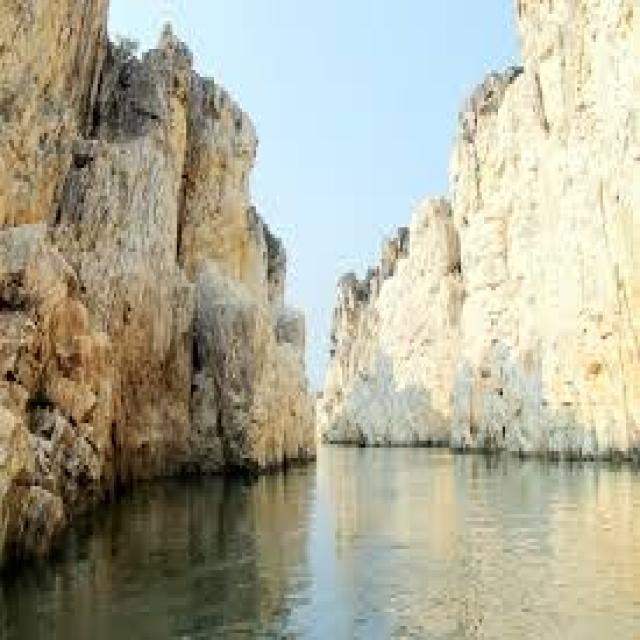Metamorphic: (2, 4, 324, 574), (321, 3, 640, 454)
